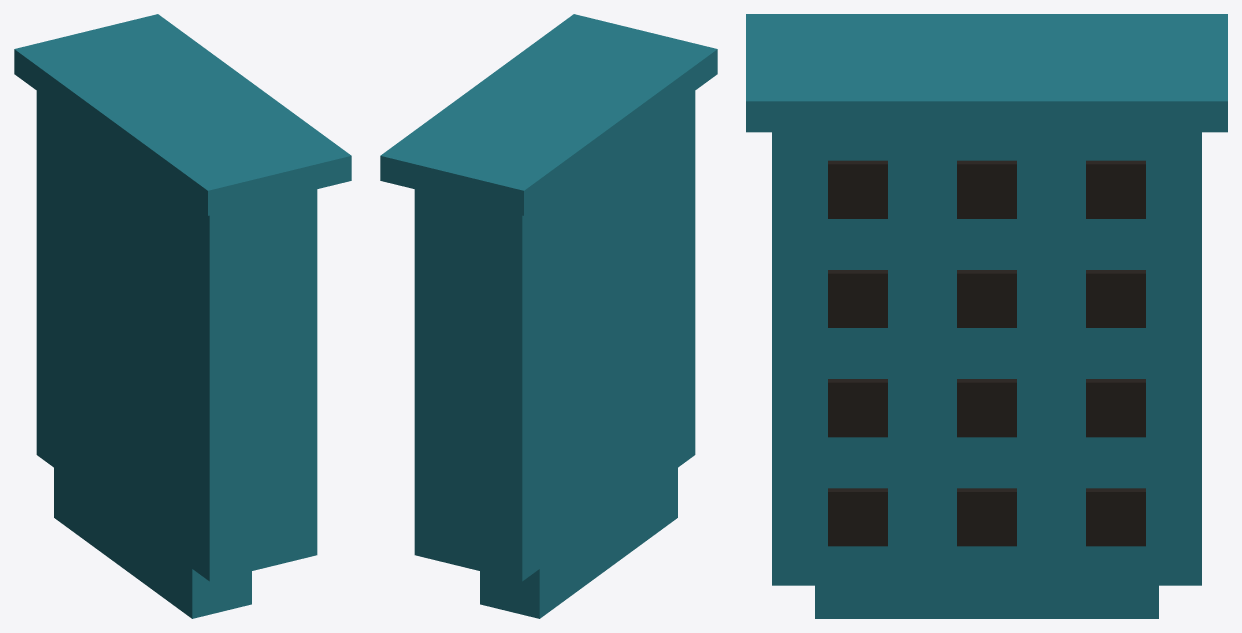
File: mashrabiya.glb
3 renders of one model, left to right at view 1: azimuth 30°, elevation 25°; view 2: azimuth 150°, elevation 25°; view 3: azimuth 270°, elevation 25°, orthographic. The views are drawn at different scales.
Parts seen in each view (by area): view 1: mashrabiya; view 2: mashrabiya; view 3: mashrabiya.
Part boxes in pixels (box(x1,y1,x2,y2)): mashrabiya: box(14, 14, 351, 618); mashrabiya: box(380, 14, 717, 618); mashrabiya: box(746, 14, 1227, 618).
Bounding box in the file's own units: 0.24 × 0.72 × 0.56.
